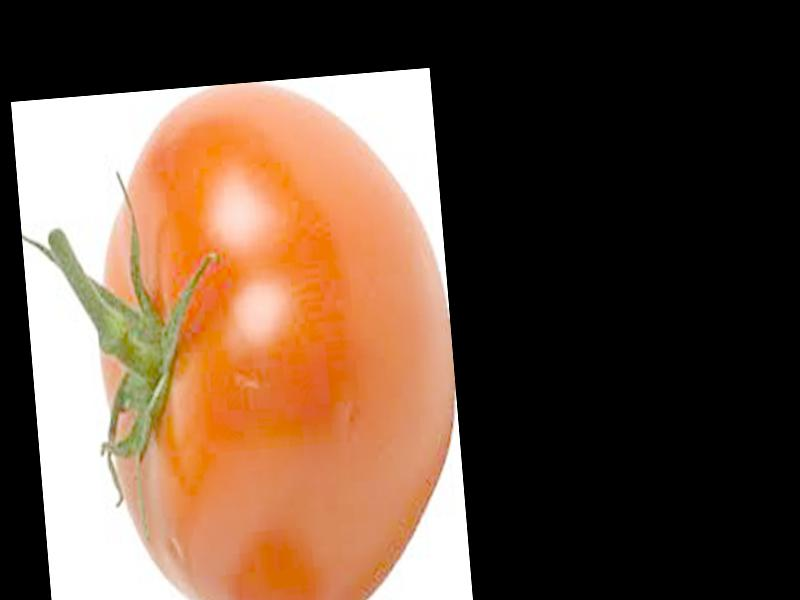Tomato: (77, 71, 469, 600)
